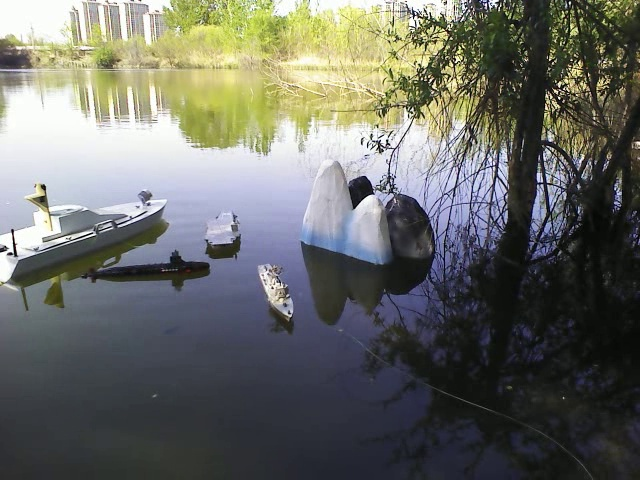aircraft_carrier: (204, 209, 246, 253)
boat: (4, 198, 168, 285)
iceberg: (298, 157, 393, 265)
rock: (347, 175, 442, 261)
submarine: (81, 255, 215, 282)
warship: (254, 259, 298, 328)
